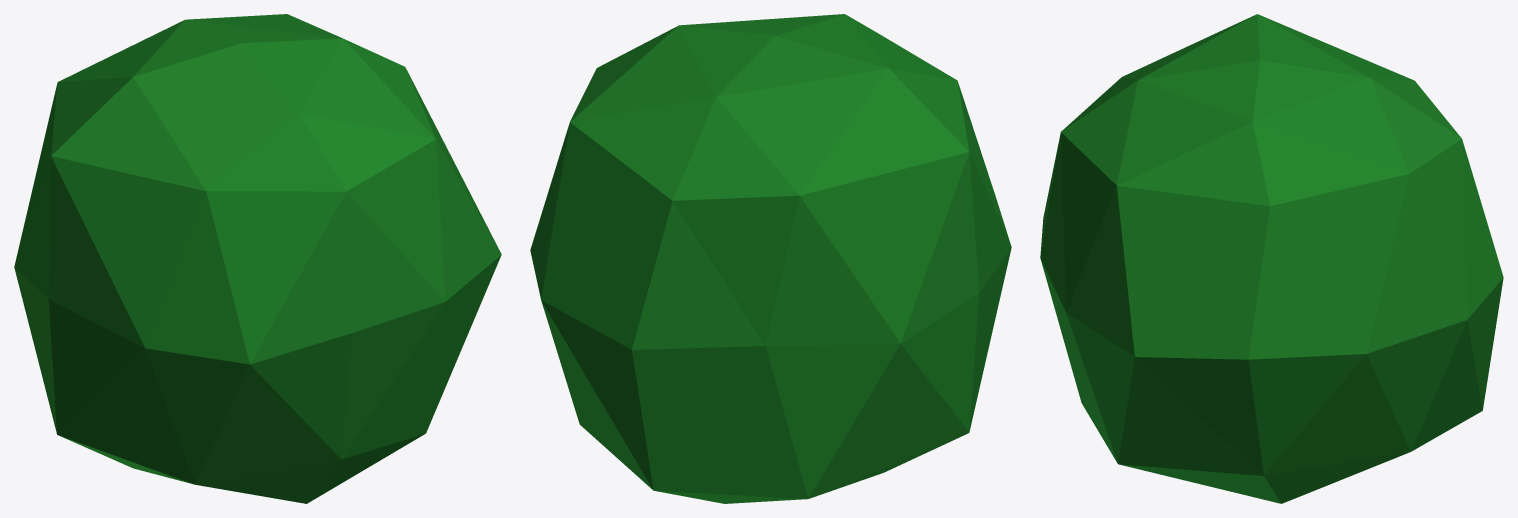
File: SnakeBody.FBX
3 renders of one model, left to right at view 1: azimuth 30°, elevation 25°; view 2: azimuth 150°, elevation 25°; view 3: azimuth 270°, elevation 25°, orthographic. The views are drawn at different scales.
Visible parts, largest first — view 1: SnakeBody; view 2: SnakeBody; view 3: SnakeBody.
Boxes of the visible parts, x1=… form: SnakeBody: x1=14, y1=14, x2=501, y2=503; SnakeBody: x1=530, y1=14, x2=1011, y2=503; SnakeBody: x1=1040, y1=14, x2=1503, y2=503.
Size of the model in its own units: 56.49 by 56.8 by 56.49.
